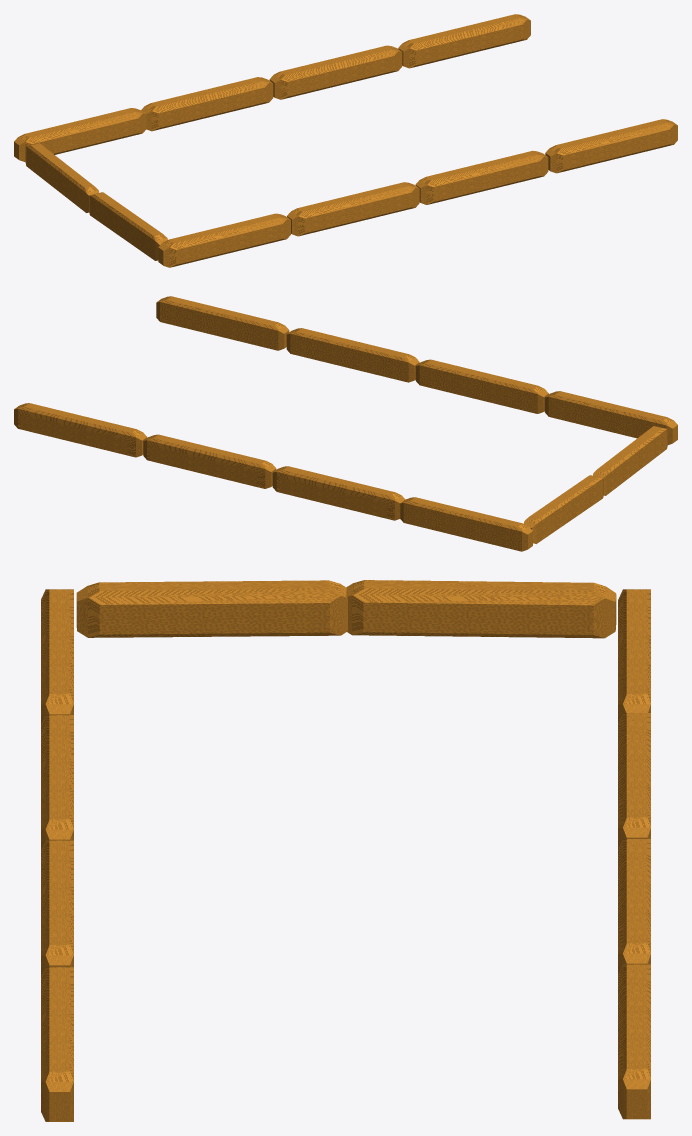
The model's file is Stupidbushes.fbx.
The picture shows the model from 3 angles, top to bottom: view 1: azimuth 30°, elevation 25°; view 2: azimuth 150°, elevation 25°; view 3: azimuth 270°, elevation 25°; orthographic projection. The views are drawn at different scales.
Parts seen in each view (by area): view 1: polySurface1316, polySurface1319, polySurface1321, polySurface1318, polySurface1320, polySurface1317, polySurface1322, polySurface1323, polySurface1315, polySurface1314; view 2: polySurface1323, polySurface1319, polySurface1318, polySurface1317, polySurface1321, polySurface1320, polySurface1322, polySurface1316, polySurface1314, polySurface1315; view 3: polySurface1315, polySurface1314, polySurface1320, polySurface1319, polySurface1318, polySurface1322, polySurface1316, polySurface1317, polySurface1321, polySurface1323.
Part boxes in pixels (x1,y1,x2,y2): polySurface1316: [158, 213, 290, 267]; polySurface1319: [545, 119, 677, 173]; polySurface1321: [269, 45, 402, 99]; polySurface1318: [415, 150, 548, 204]; polySurface1320: [398, 14, 530, 68]; polySurface1317: [287, 182, 419, 236]; polySurface1322: [141, 77, 273, 131]; polySurface1323: [14, 108, 146, 162]; polySurface1315: [89, 192, 167, 260]; polySurface1314: [25, 143, 99, 212]; polySurface1323: [400, 497, 532, 551]; polySurface1319: [156, 296, 289, 350]; polySurface1318: [286, 328, 419, 382]; polySurface1317: [415, 359, 548, 413]; polySurface1321: [143, 434, 276, 488]; polySurface1320: [14, 403, 147, 457]; polySurface1322: [272, 466, 405, 520]; polySurface1316: [544, 391, 677, 444]; polySurface1314: [523, 475, 603, 543]; polySurface1315: [593, 426, 667, 495]; polySurface1315: [76, 580, 347, 637]; polySurface1314: [346, 580, 616, 638]; polySurface1320: [618, 964, 650, 1119]; polySurface1319: [41, 967, 73, 1121]; polySurface1318: [41, 840, 73, 976]; polySurface1322: [618, 713, 650, 848]; polySurface1316: [41, 589, 73, 724]; polySurface1317: [41, 715, 73, 849]; polySurface1321: [618, 839, 650, 974]; polySurface1323: [618, 589, 650, 722].
Size of the model in its own units: 439 by 18.35 by 225.
